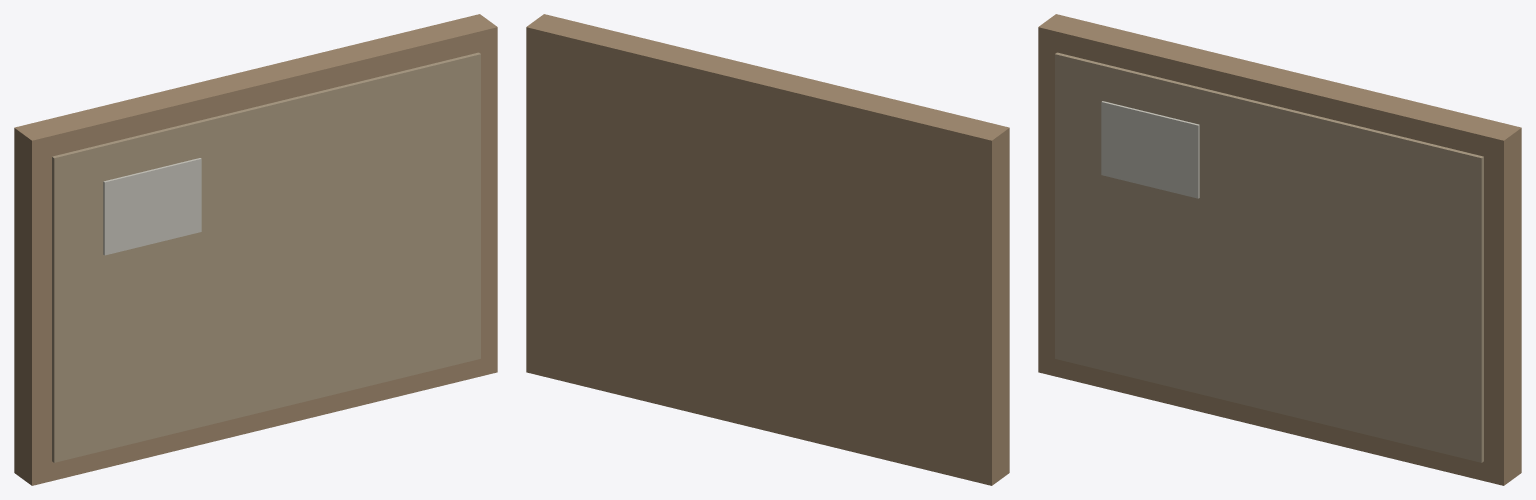
Rendered from CLS-009.glb.
The picture shows the model from 3 angles, left to right: view 1: azimuth 30°, elevation 25°; view 2: azimuth 150°, elevation 25°; view 3: azimuth 330°, elevation 25°; orthographic projection.
Visible parts, largest first — view 1: 001_Cork_board, 000_Pin_board, 002_Pinned_note; view 2: 000_Pin_board; view 3: 001_Cork_board, 000_Pin_board, 002_Pinned_note.
Boxes of the visible parts, x1,y1,x2,y2 form: 001_Cork_board: (52, 52, 480, 462); 000_Pin_board: (14, 14, 497, 485); 002_Pinned_note: (103, 158, 201, 255); 000_Pin_board: (526, 14, 1009, 485); 001_Cork_board: (1055, 52, 1483, 462); 000_Pin_board: (1038, 14, 1521, 485); 002_Pinned_note: (1101, 101, 1199, 198).
Size of the model in its own units: 1.2 by 0.85 by 0.101.
